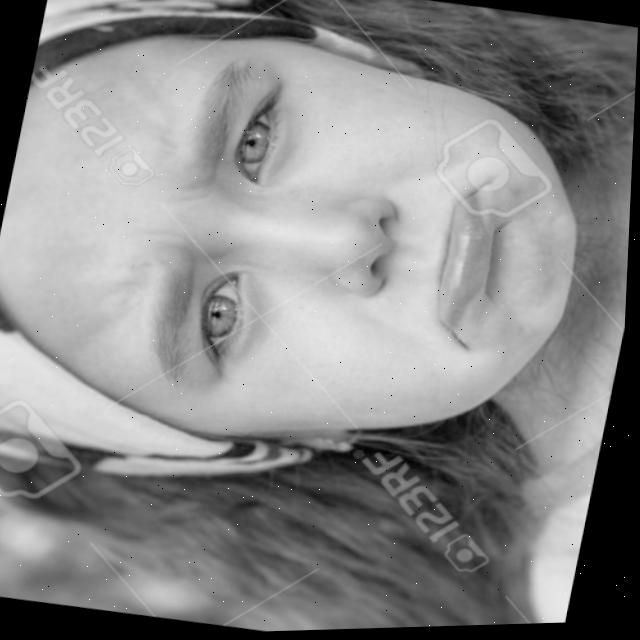sad: (107, 14, 584, 449)
